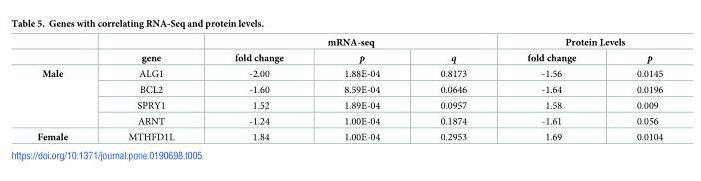table: (36, 36, 662, 141)
table column: (203, 36, 313, 141), (496, 36, 605, 141), (97, 36, 203, 141), (313, 36, 409, 141), (409, 36, 496, 141), (36, 36, 97, 141), (605, 36, 662, 141)
table column header: (36, 36, 662, 66)
table row: (36, 49, 662, 66), (36, 81, 662, 97), (36, 97, 662, 113), (36, 66, 662, 81), (36, 113, 662, 128), (36, 36, 662, 49), (36, 128, 662, 141)
table spanning cell: (203, 36, 496, 49), (36, 66, 97, 128), (97, 36, 203, 66), (496, 36, 662, 49)
